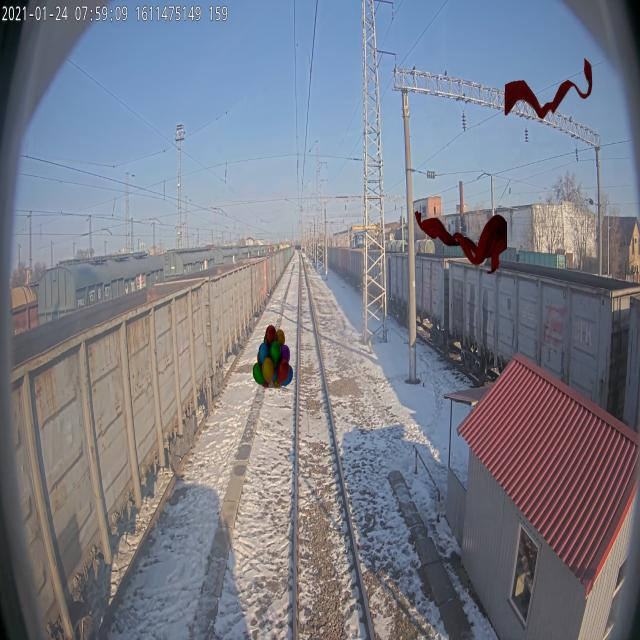balloon: (253, 324, 293, 388)
floating object: (413, 210, 507, 274), (504, 56, 594, 120)
